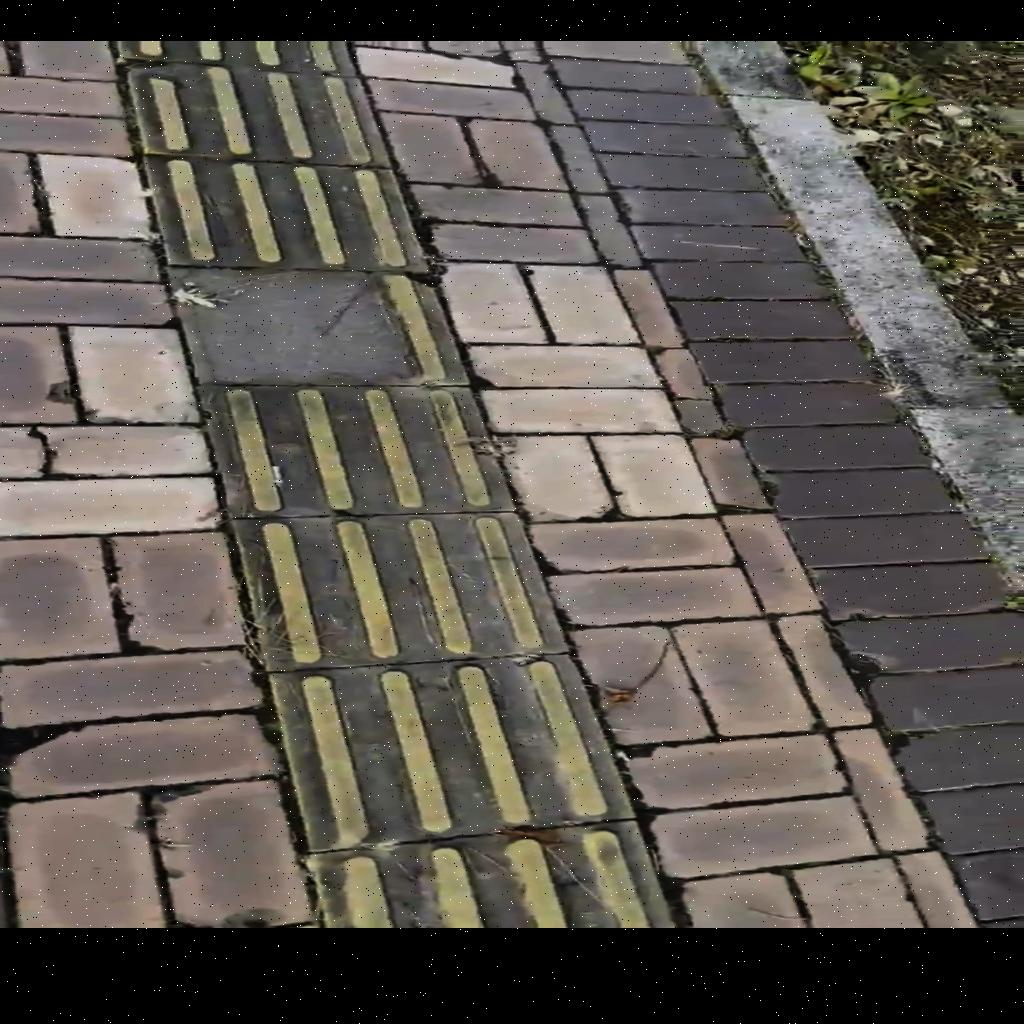Straight block broken: (169, 271, 469, 386)
Straight block normal: (270, 638, 635, 851), (234, 500, 567, 671), (198, 376, 511, 516), (142, 158, 434, 275)
